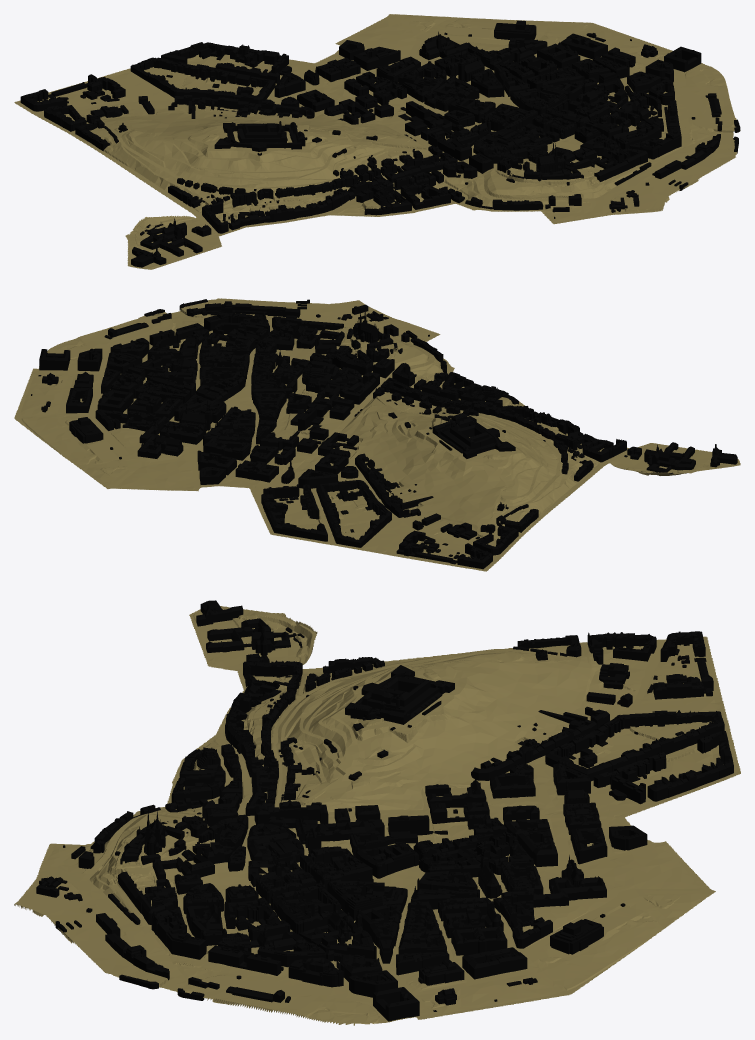
Rendered from budovy_terrain_single_color.glb.
3 views of the same model, one above another, from view 1: azimuth 30°, elevation 25°; view 2: azimuth 150°, elevation 25°; view 3: azimuth 270°, elevation 25° (orthographic). The views are drawn at different scales.
Visible parts, largest first — view 1: loc_1_terrain.001_lower_poly.001; view 2: loc_1_terrain.001_lower_poly.001; view 3: loc_1_terrain.001_lower_poly.001.
Boxes of the visible parts, x1,y1,x2,y2 form: loc_1_terrain.001_lower_poly.001: [14, 14, 740, 269]; loc_1_terrain.001_lower_poly.001: [14, 298, 740, 571]; loc_1_terrain.001_lower_poly.001: [14, 600, 740, 1025].
Size of the model in its own units: 1805 by 125 by 1325.
